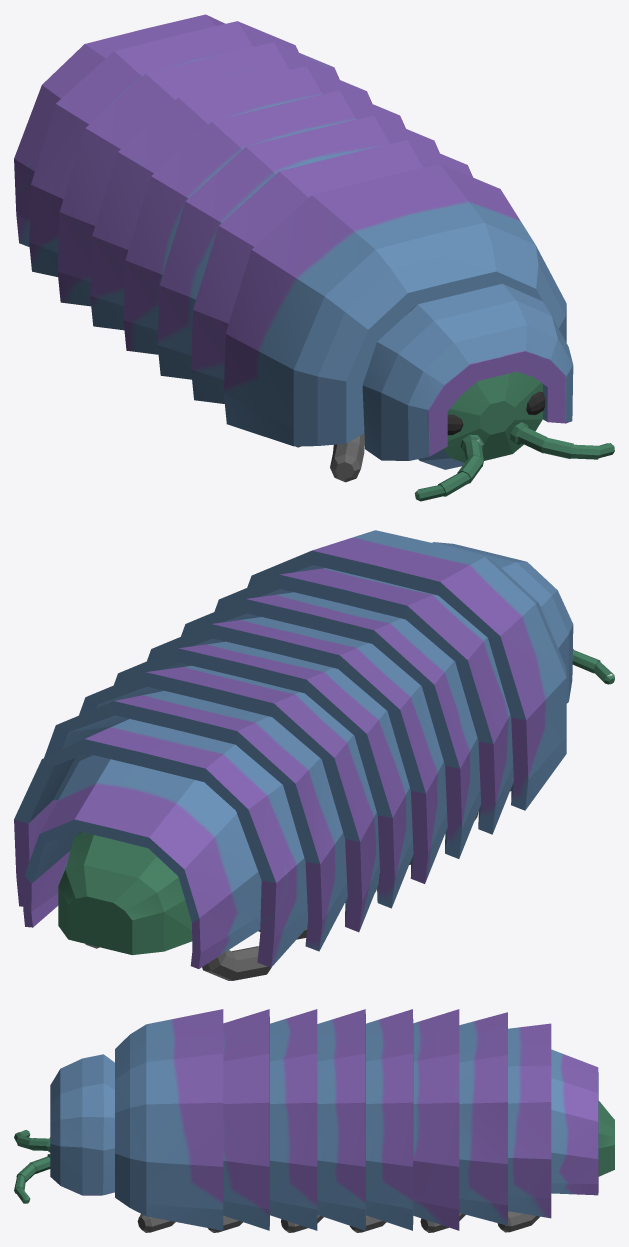
Rendered from PillBug_Complete level 1.fbx.
The picture shows the model from 3 angles, top to bottom: view 1: azimuth 30°, elevation 25°; view 2: azimuth 150°, elevation 25°; view 3: azimuth 270°, elevation 25°; orthographic projection. The views are drawn at different scales.
Visible parts, largest first — view 1: Pillbug_Body, Pillbug_Leg07; view 2: Pillbug_Body, Pillbug_Leg12; view 3: Pillbug_Body, Pillbug_Leg06, Pillbug_Leg01.
Boxes of the visible parts, <box> form: Pillbug_Body: <box>14,14,614,501</box>; Pillbug_Leg07: <box>330,433,364,482</box>; Pillbug_Body: <box>14,530,614,968</box>; Pillbug_Leg12: <box>202,946,271,980</box>; Pillbug_Body: <box>14,1009,614,1230</box>; Pillbug_Leg06: <box>497,1211,539,1232</box>; Pillbug_Leg01: <box>137,1214,175,1232</box>.
Bounding box in the file's own units: 77.64 × 59.16 × 187.
Materials: 2 (2 with a texture image).
